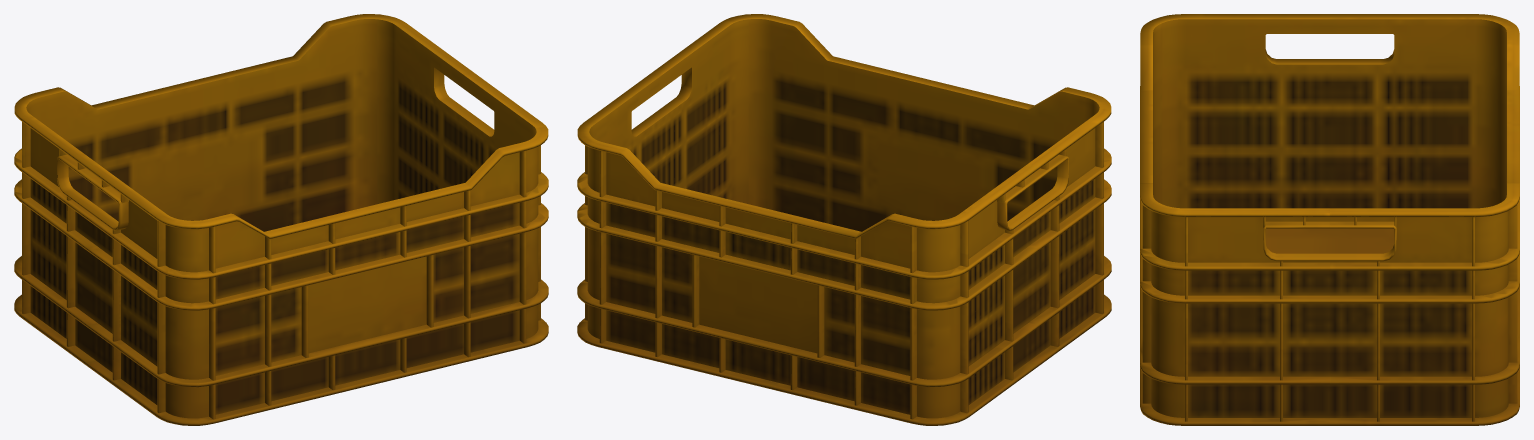
Rendered from plastic_crate_02.glb.
The picture shows the model from 3 angles, left to right: view 1: azimuth 30°, elevation 25°; view 2: azimuth 150°, elevation 25°; view 3: azimuth 270°, elevation 25°; orthographic projection. The views are drawn at different scales.
Visible parts, largest first — view 1: plastic_crate_02; view 2: plastic_crate_02; view 3: plastic_crate_02.
Part boxes in pixels (x1=…): plastic_crate_02: x1=14, y1=14, x2=548, y2=425; plastic_crate_02: x1=577, y1=14, x2=1111, y2=425; plastic_crate_02: x1=1140, y1=14, x2=1519, y2=425.
Bounding box in the file's own units: 0.5055 × 0.2541 × 0.4055.
1 material, 1 textured.
